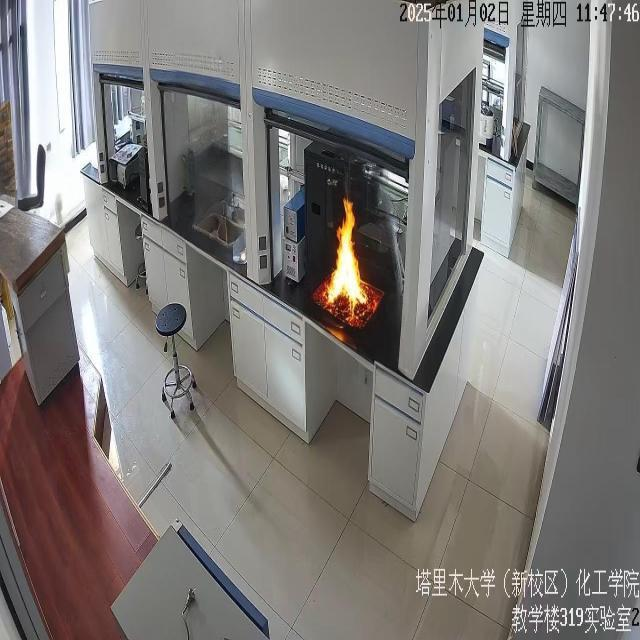smoke: (321, 193, 374, 320)
